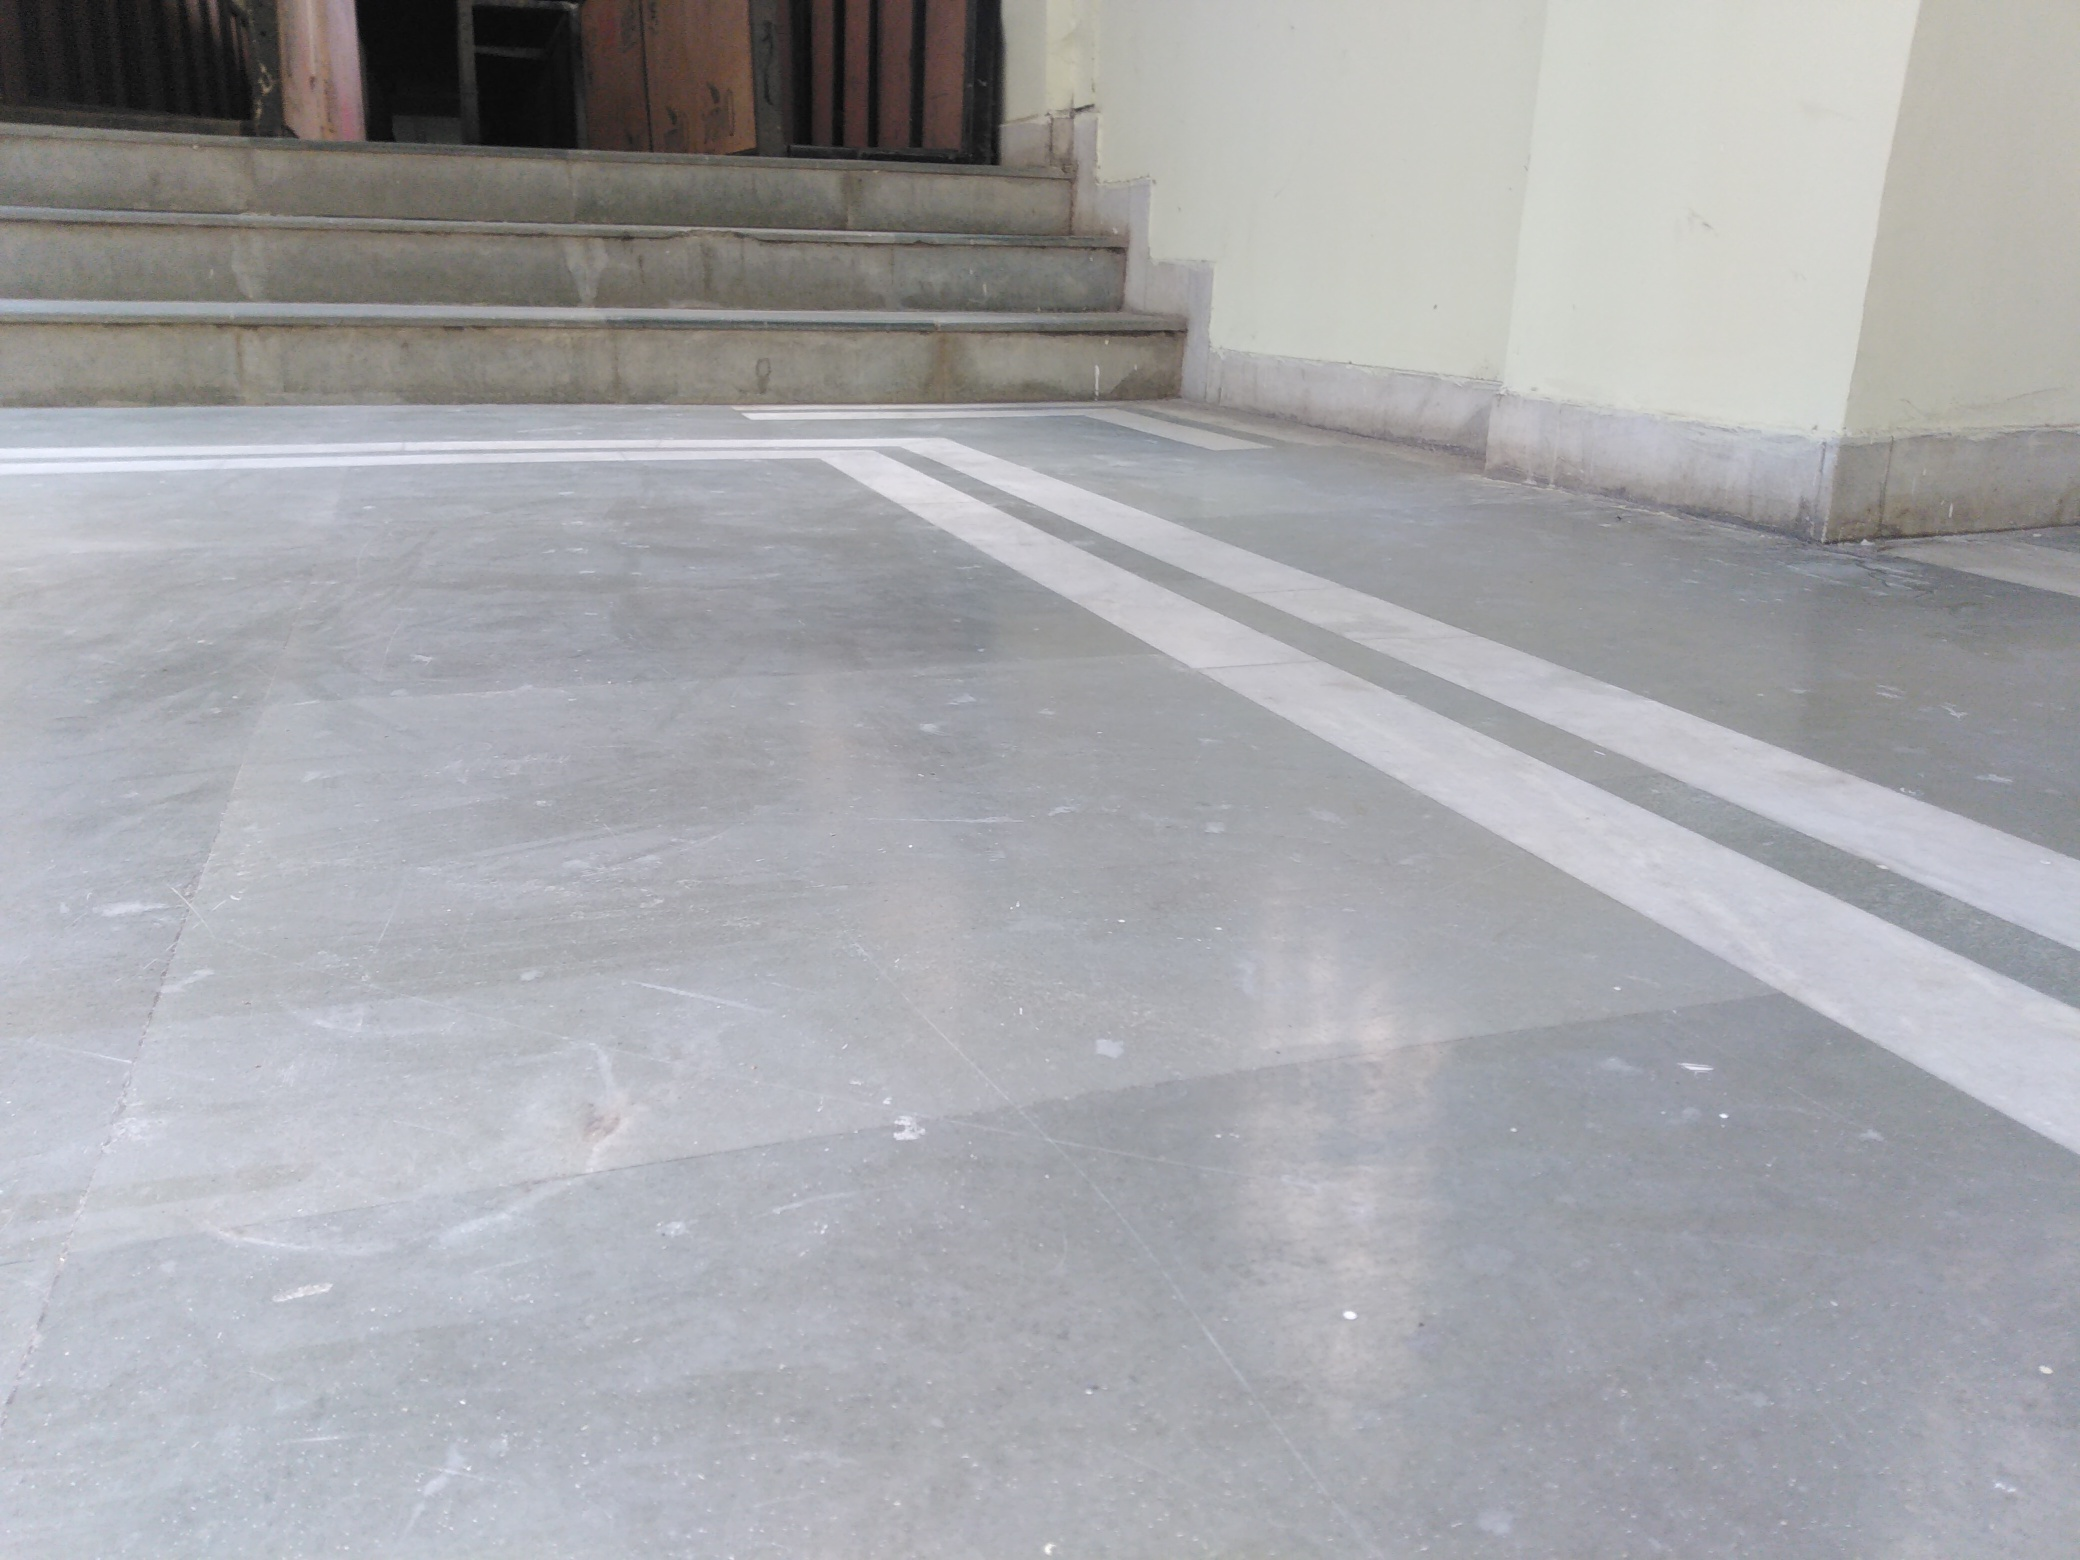stairs_up: (8, 103, 1192, 401)
